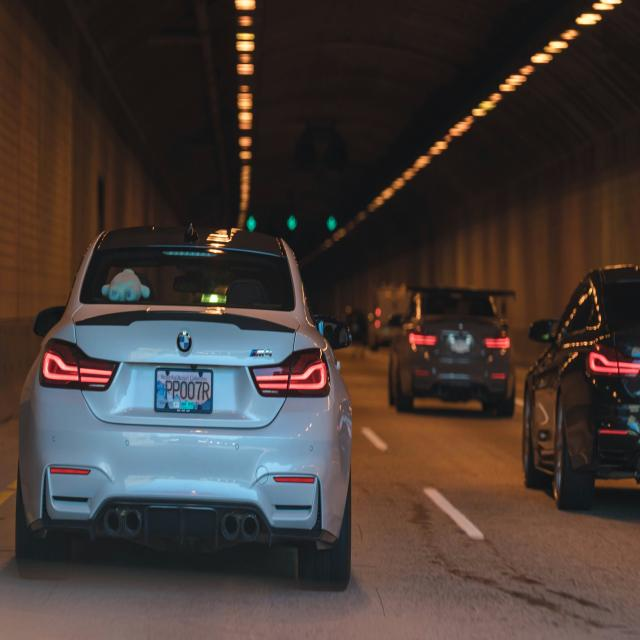Ad-signs: (154, 367, 213, 414)
Car: (15, 223, 353, 592), (522, 262, 640, 511), (388, 286, 516, 417)
